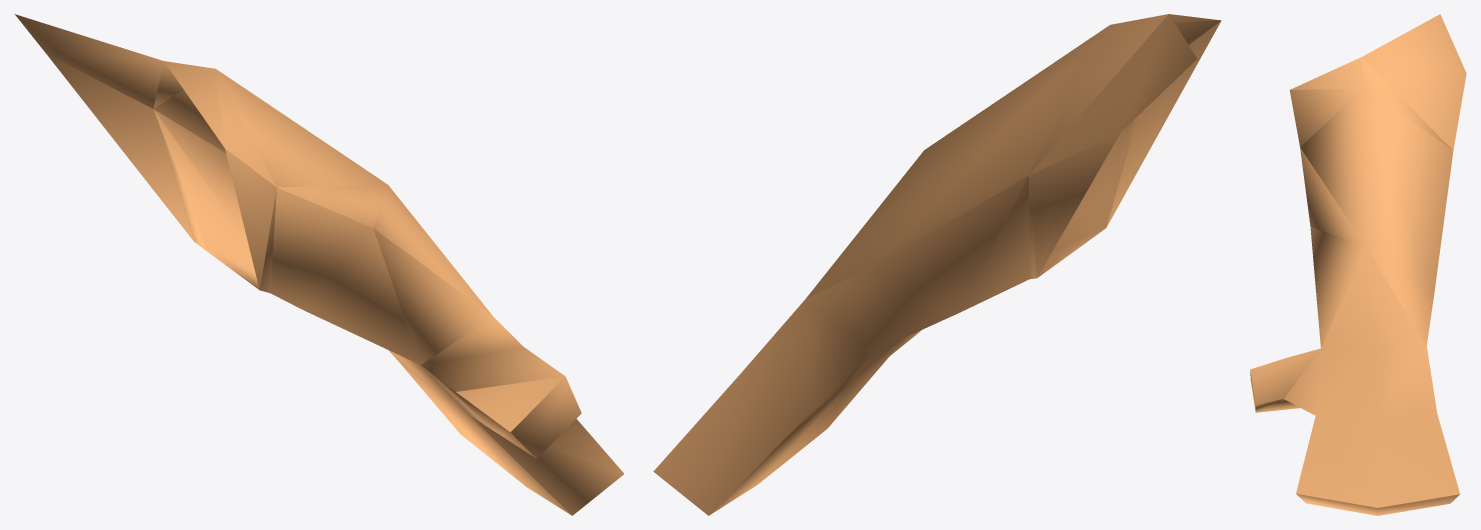
The model's file is brazoDer.obj.
3 views of the same model, side by side, from view 1: azimuth 30°, elevation 25°; view 2: azimuth 150°, elevation 25°; view 3: azimuth 270°, elevation 25° (orthographic). The views are drawn at different scales.
Parts seen in each view (by area): view 1: polySurface6 polySurface5 polySurface3 pedro:Mesh; view 2: polySurface6 polySurface5 polySurface3 pedro:Mesh; view 3: polySurface6 polySurface5 polySurface3 pedro:Mesh.
Boxes of the visible parts, left/top/right/bottom form: polySurface6 polySurface5 polySurface3 pedro:Mesh: left=15, top=14, right=623, bottom=515; polySurface6 polySurface5 polySurface3 pedro:Mesh: left=653, top=14, right=1221, bottom=515; polySurface6 polySurface5 polySurface3 pedro:Mesh: left=1250, top=14, right=1466, bottom=515.
Bounding box in the file's own units: 2.23 × 2.3 × 1.27.
1 material, 1 textured.
